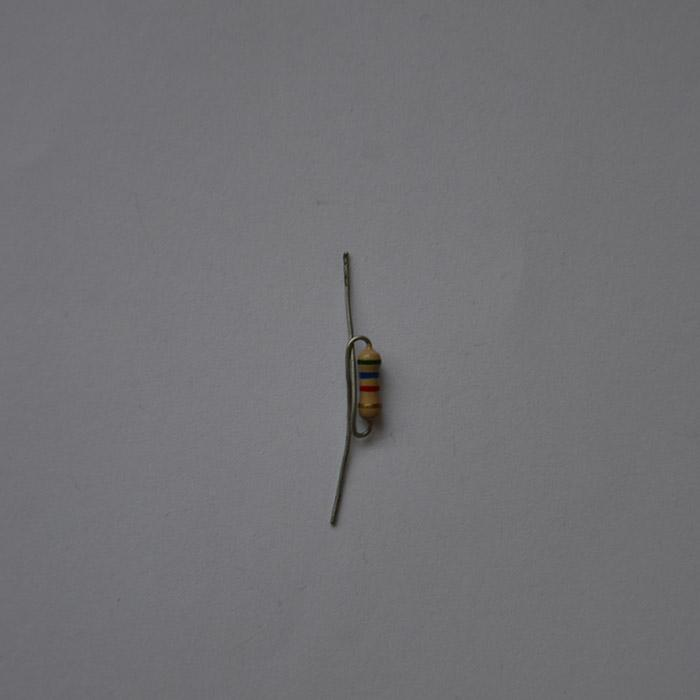resistor: (356, 341, 382, 420)
